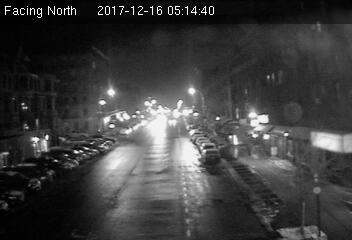car: (201, 149, 221, 164)
